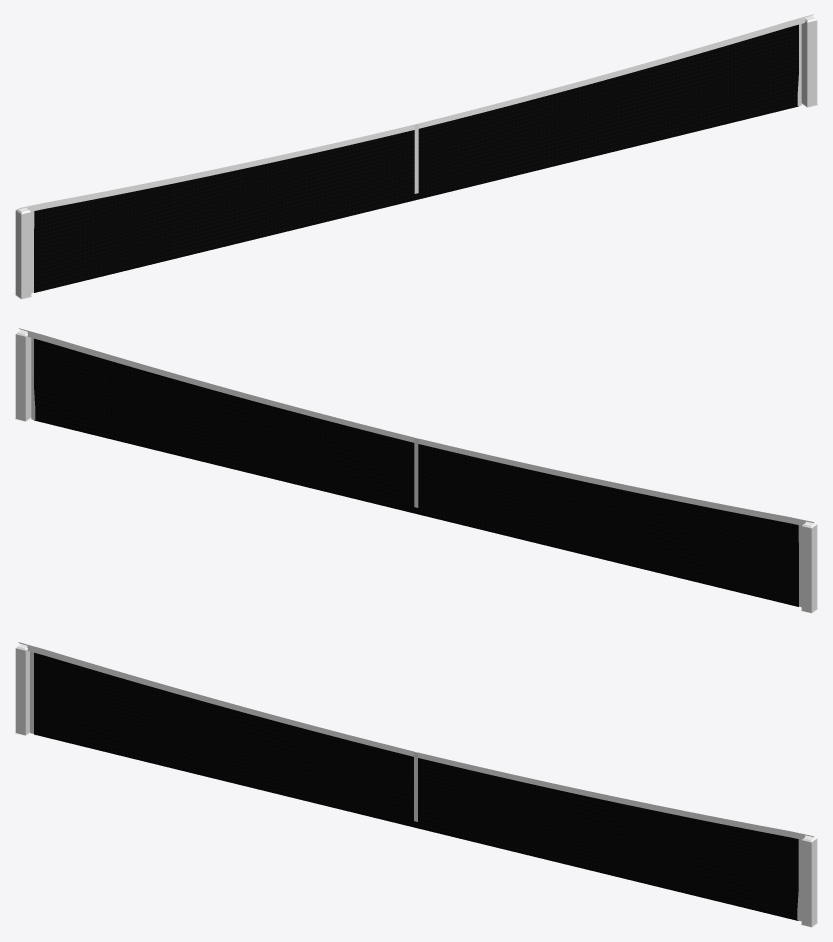
Rendered from net_1.obj.
3 renders of one model, top to bottom at view 1: azimuth 30°, elevation 25°; view 2: azimuth 150°, elevation 25°; view 3: azimuth 330°, elevation 25°, orthographic.
Bounding box in the file's own units: 10.26 × 1.09 × 0.1549.
Materials: 2 (2 with a texture image).
